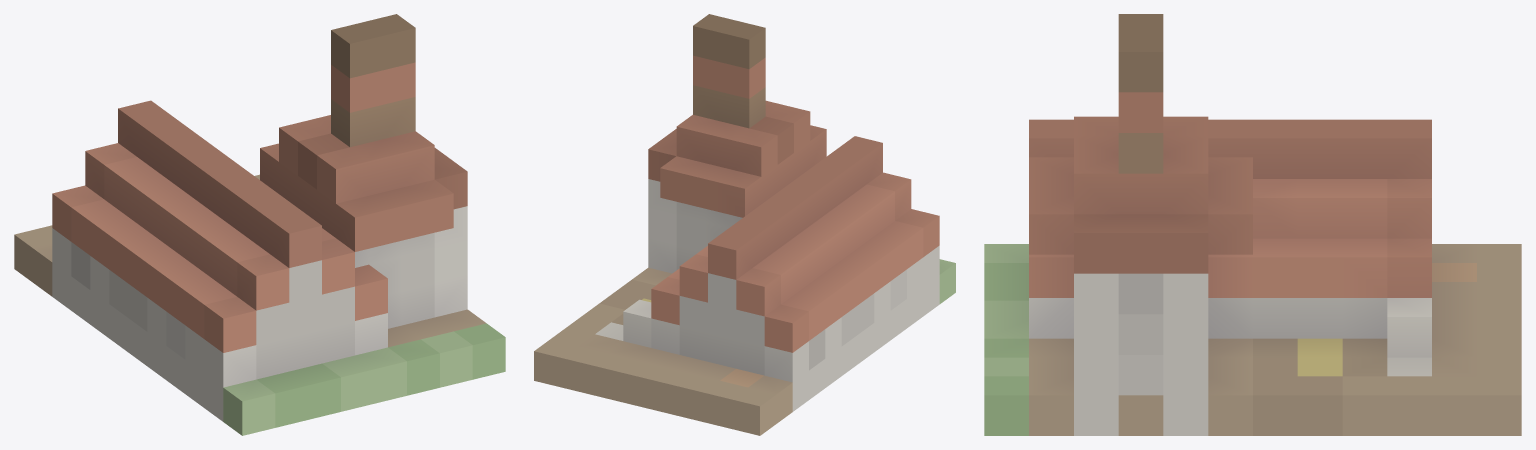
File: malt_house.lite.glb
3 views of the same model, side by side, from view 1: azimuth 30°, elevation 25°; view 2: azimuth 150°, elevation 25°; view 3: azimuth 270°, elevation 25° (orthographic). The views are drawn at different scales.
Parts seen in each view (by area): view 1: malt_house; view 2: malt_house; view 3: malt_house.
Part boxes in pixels (x1=…): malt_house: x1=14, y1=14, x2=505, y2=435; malt_house: x1=534, y1=14, x2=955, y2=435; malt_house: x1=984, y1=14, x2=1521, y2=435.
Bounding box in the file's own units: 4 × 4.5 × 6.
